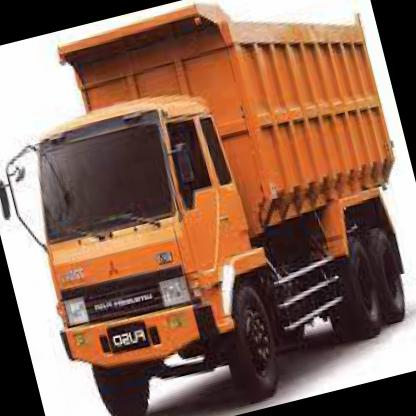truck: (21, 82, 293, 416)
